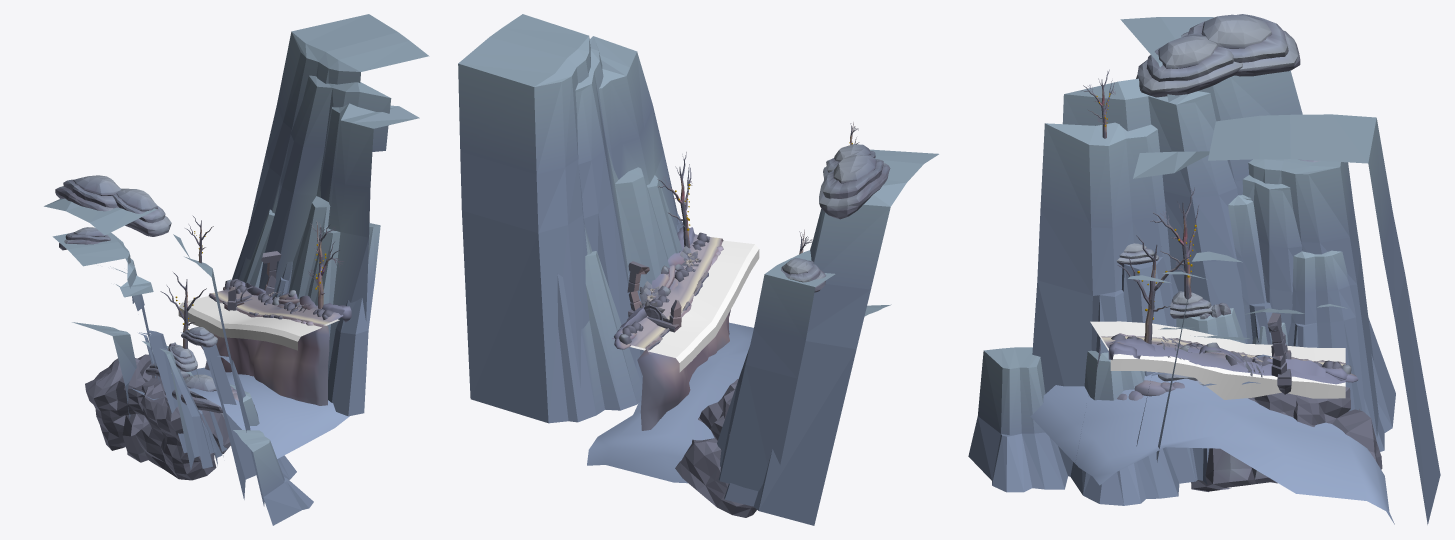
File: Arctic_Narrows_Left_Curve_Left_15_B_Jump_B.glb
3 views of the same model, side by side, from view 1: azimuth 30°, elevation 25°; view 2: azimuth 150°, elevation 25°; view 3: azimuth 270°, elevation 25° (orthographic). The views are drawn at different scales.
Visible parts, largest first — view 1: Arctic_Narrows_Left_IceWall_A01 (1), Arctic_Narrows_Left_Curve_Left_15_B, Arctic_Narrows_Right_IceWall_A01 (1), Arctic_Narrows_Left_IceWall_A01_Right, Arctic_Narrows_Right_IceWall_A02 (1), Arctic_Narrows_Big_Rock_A01_Top (×2), Arctic_Narrows_Right_IceWall_A01_Left, inv_fill, Arctic_Narrows_Big_Rock_A01_Mid (×2), Arctic_Narrows_Big_Rock_A01 (2), Arctic_Narrows_Right_Snow_A01_Top (×2), Arctic_Narrows_Left_IceWall_A01_Left (+7 smaller); view 2: Arctic_Narrows_Left_IceWall_A01 (1), Arctic_Narrows_Right_IceWall_A01 (1), Arctic_Narrows_Left_Curve_Left_15_B, Arctic_Narrows_Right_IceWall_A02 (1), Arctic_Narrows_Left_IceWall_A01_Left, inv_fill, Arctic_Narrows_Big_Rock_A01 (3), Arctic_Narrows_Right_Snow_A01 (9), Arctic_Narrows_Big_Rock_A01_Mid, Arctic_Narrows_Right_Snow_A01_Mid, Arctic_Narrows_Right_Snow_A01_Top, Arctic_Narrows_Right_IceWall_A02_Right; view 3: Arctic_Narrows_Right_IceWall_A01 (1), Arctic_Narrows_Left_Curve_Left_15_B, Arctic_Narrows_Left_IceWall_A01 (1), Arctic_Narrows_Right_IceWall_A01_Left, Arctic_Narrows_Right_IceWall_A02 (1), inv_fill, Arctic_Narrows_Right_IceWall_A02_Right, Arctic_Narrows_Right_IceWall_A01_Mid, Arctic_Narrows_Right_Snow_A01_Top (×2), Arctic_Narrows_Right_Snow_A01_Mid (×2), Arctic_Narrows_Big_Rock_A01_Mid, Arctic_Narrows_Big_Rock_A01 (2) (+5 smaller).
Boxes of the visible parts, x1=… form: Arctic_Narrows_Left_IceWall_A01 (1): x1=234, y1=14, x2=429, y2=378; Arctic_Narrows_Left_Curve_Left_15_B: x1=131, y1=280, x2=364, y2=458; Arctic_Narrows_Right_IceWall_A01 (1): x1=44, y1=198, x2=264, y2=506; Arctic_Narrows_Left_IceWall_A01_Right: x1=328, y1=223, x2=380, y2=416; Arctic_Narrows_Right_IceWall_A02 (1): x1=52, y1=232, x2=199, y2=469; Arctic_Narrows_Big_Rock_A01_Top (×2): x1=85, y1=354, x2=189, y2=435; Arctic_Narrows_Right_IceWall_A01_Left: x1=229, y1=384, x2=313, y2=525; inv_fill: x1=178, y1=296, x2=339, y2=350; Arctic_Narrows_Big_Rock_A01_Mid (×2): x1=94, y1=403, x2=209, y2=459; Arctic_Narrows_Big_Rock_A01 (2): x1=135, y1=412, x2=230, y2=480; Arctic_Narrows_Right_Snow_A01_Top (×2): x1=73, y1=175, x2=157, y2=211; Arctic_Narrows_Left_IceWall_A01_Left: x1=232, y1=185, x2=279, y2=287; Arctic_Narrows_Left_IceWall_A01 (1): x1=458, y1=14, x2=681, y2=423; Arctic_Narrows_Right_IceWall_A01 (1): x1=753, y1=149, x2=938, y2=525; Arctic_Narrows_Left_Curve_Left_15_B: x1=587, y1=226, x2=753, y2=483; Arctic_Narrows_Right_IceWall_A02 (1): x1=719, y1=250, x2=835, y2=491; Arctic_Narrows_Left_IceWall_A01_Left: x1=557, y1=224, x2=642, y2=422; inv_fill: x1=630, y1=240, x2=759, y2=372; Arctic_Narrows_Big_Rock_A01 (3): x1=675, y1=439, x2=756, y2=517; Arctic_Narrows_Right_Snow_A01 (9): x1=819, y1=163, x2=890, y2=219; Arctic_Narrows_Big_Rock_A01_Mid: x1=693, y1=402, x2=729, y2=471; Arctic_Narrows_Right_Snow_A01_Mid: x1=822, y1=159, x2=883, y2=198; Arctic_Narrows_Right_Snow_A01_Top: x1=833, y1=155, x2=876, y2=183; Arctic_Narrows_Right_IceWall_A02_Right: x1=717, y1=347, x2=749, y2=466; Arctic_Narrows_Right_IceWall_A01 (1): x1=1032, y1=17, x2=1395, y2=483; Arctic_Narrows_Left_Curve_Left_15_B: x1=1030, y1=333, x2=1394, y2=524; Arctic_Narrows_Left_IceWall_A01 (1): x1=1133, y1=114, x2=1440, y2=524; Arctic_Narrows_Right_IceWall_A01_Left: x1=968, y1=347, x2=1179, y2=505; Arctic_Narrows_Right_IceWall_A02 (1): x1=1241, y1=159, x2=1378, y2=438; inv_fill: x1=1090, y1=321, x2=1345, y2=399; Arctic_Narrows_Right_IceWall_A02_Right: x1=1287, y1=250, x2=1365, y2=412; Arctic_Narrows_Right_IceWall_A01_Mid: x1=1176, y1=195, x2=1272, y2=484; Arctic_Narrows_Right_Snow_A01_Top (×2): x1=1158, y1=14, x2=1271, y2=68; Arctic_Narrows_Right_Snow_A01_Mid (×2): x1=1146, y1=14, x2=1288, y2=81; Arctic_Narrows_Big_Rock_A01_Mid: x1=1291, y1=387, x2=1370, y2=433; Arctic_Narrows_Big_Rock_A01 (2): x1=1191, y1=448, x2=1274, y2=491.
Bounding box in the file's own units: 24.67 × 23.75 × 20.83.
